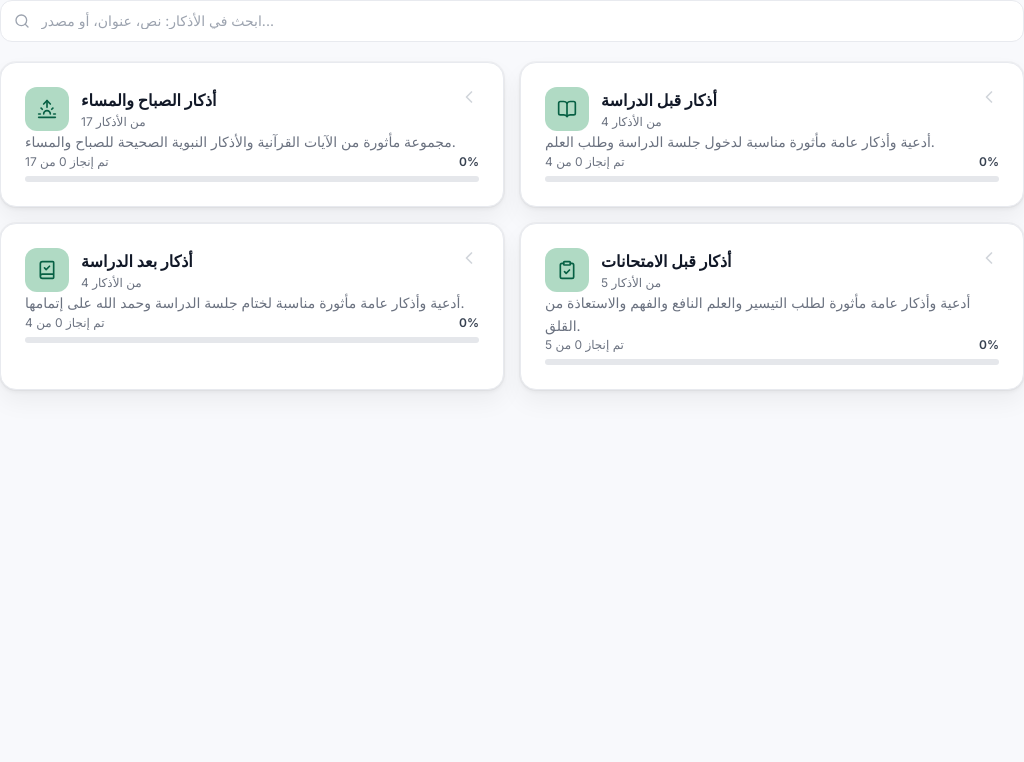
Test: Adhkar add-dhikr submissions › opens the add-dhikr modal from the add button
The image size is (1024, 762).
Click the button "أذكار الصباح والمساء". click: (252, 134)
box: [0,62,504,207]
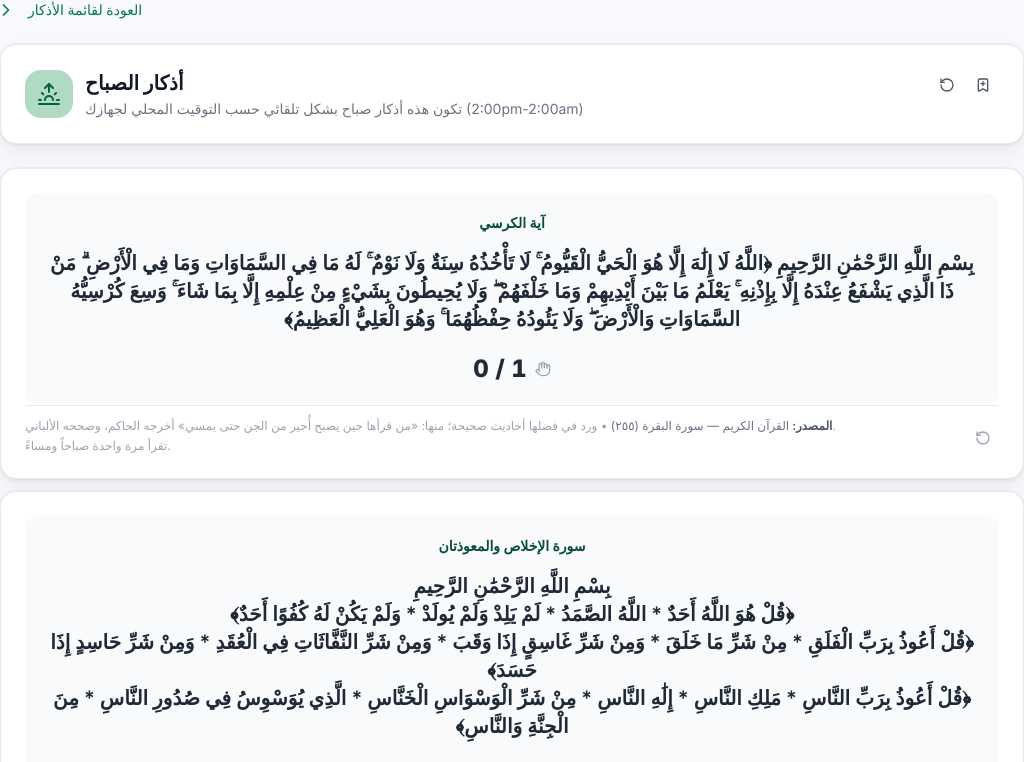
Expected: the heading "أذكار الصباح" is shown, [85,71,184,95]
Click the button named "إضافة ذكر". click: (983, 85)
box: [967,69,999,101]
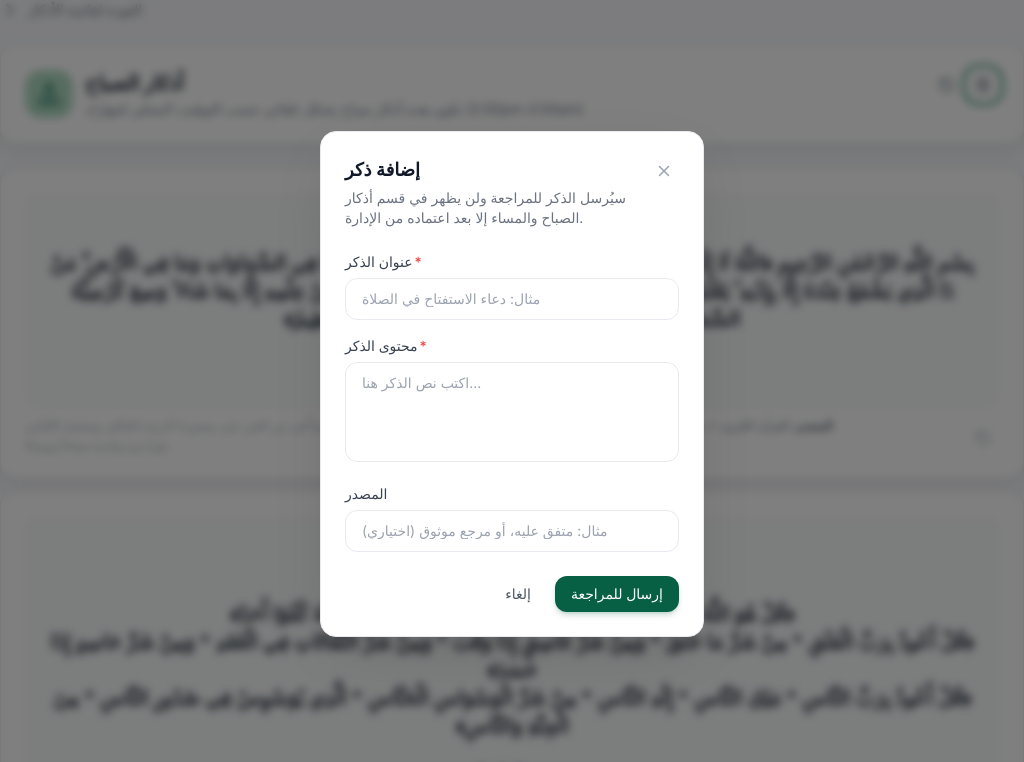
Now the dialog is shown, box [320,131,704,637]
Now the field labelled "عنوان الذكر" is shown, box [345,278,679,320]
Now the text box labelled "محتوى الذكر" is shown, box [345,362,679,462]
